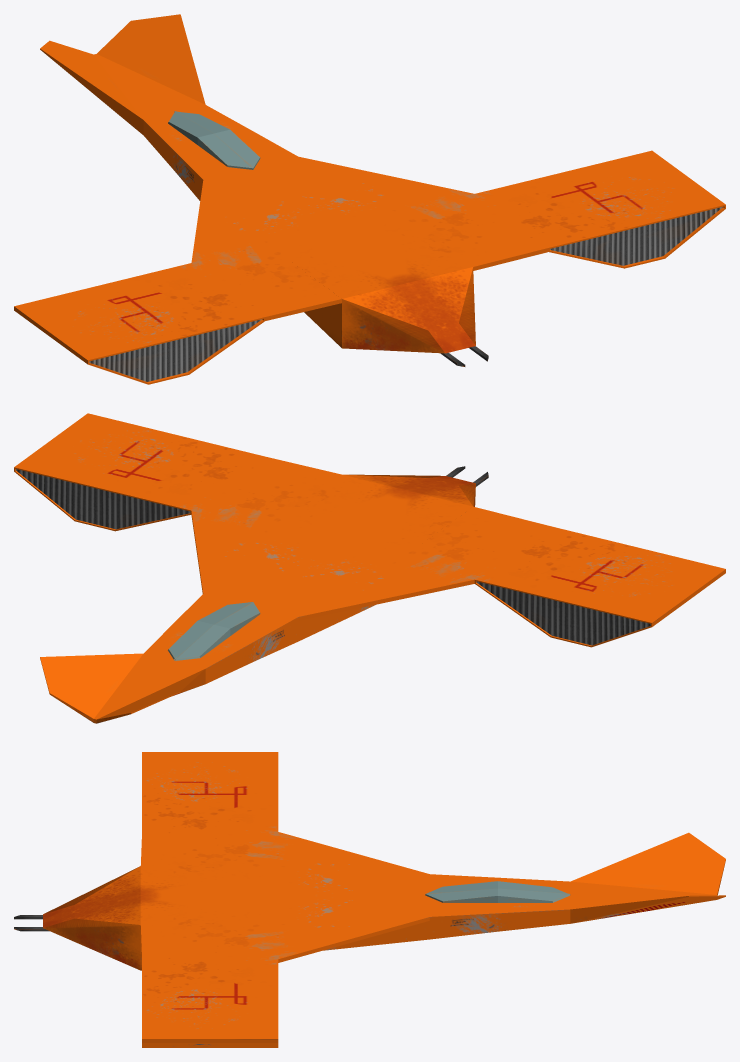
The model's file is craft2-final.fbx.
3 views of the same model, one above another, from view 1: azimuth 30°, elevation 25°; view 2: azimuth 150°, elevation 25°; view 3: azimuth 270°, elevation 25° (orthographic). The views are drawn at different scales.
Parts seen in each view (by area): view 1: Cube; view 2: Cube; view 3: Cube.
Boxes of the visible parts, <box> form: Cube: <box>14,14,725,384</box>; Cube: <box>14,413,725,723</box>; Cube: <box>14,752,725,1047</box>.
Size of the model in its own units: 973 by 122 by 1019.
1 material, 1 textured.
